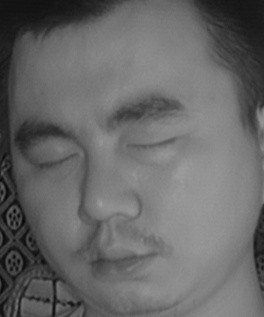blink: (126, 128, 176, 162), (32, 146, 81, 179)
mouth: (87, 235, 162, 286)
